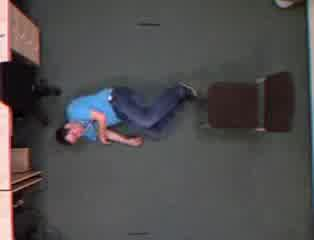falling: (61, 76, 193, 150)
